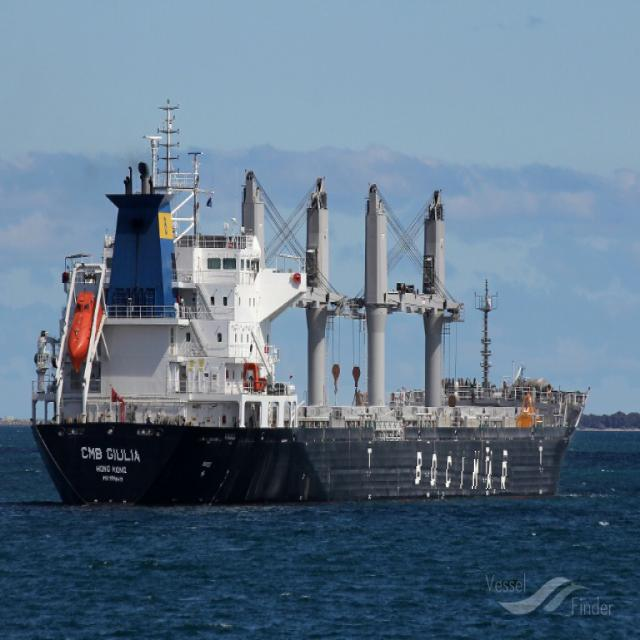OCR: (410, 444, 512, 489), (79, 441, 143, 485)
